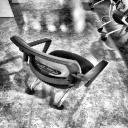chair_success: (8, 35, 112, 111)
